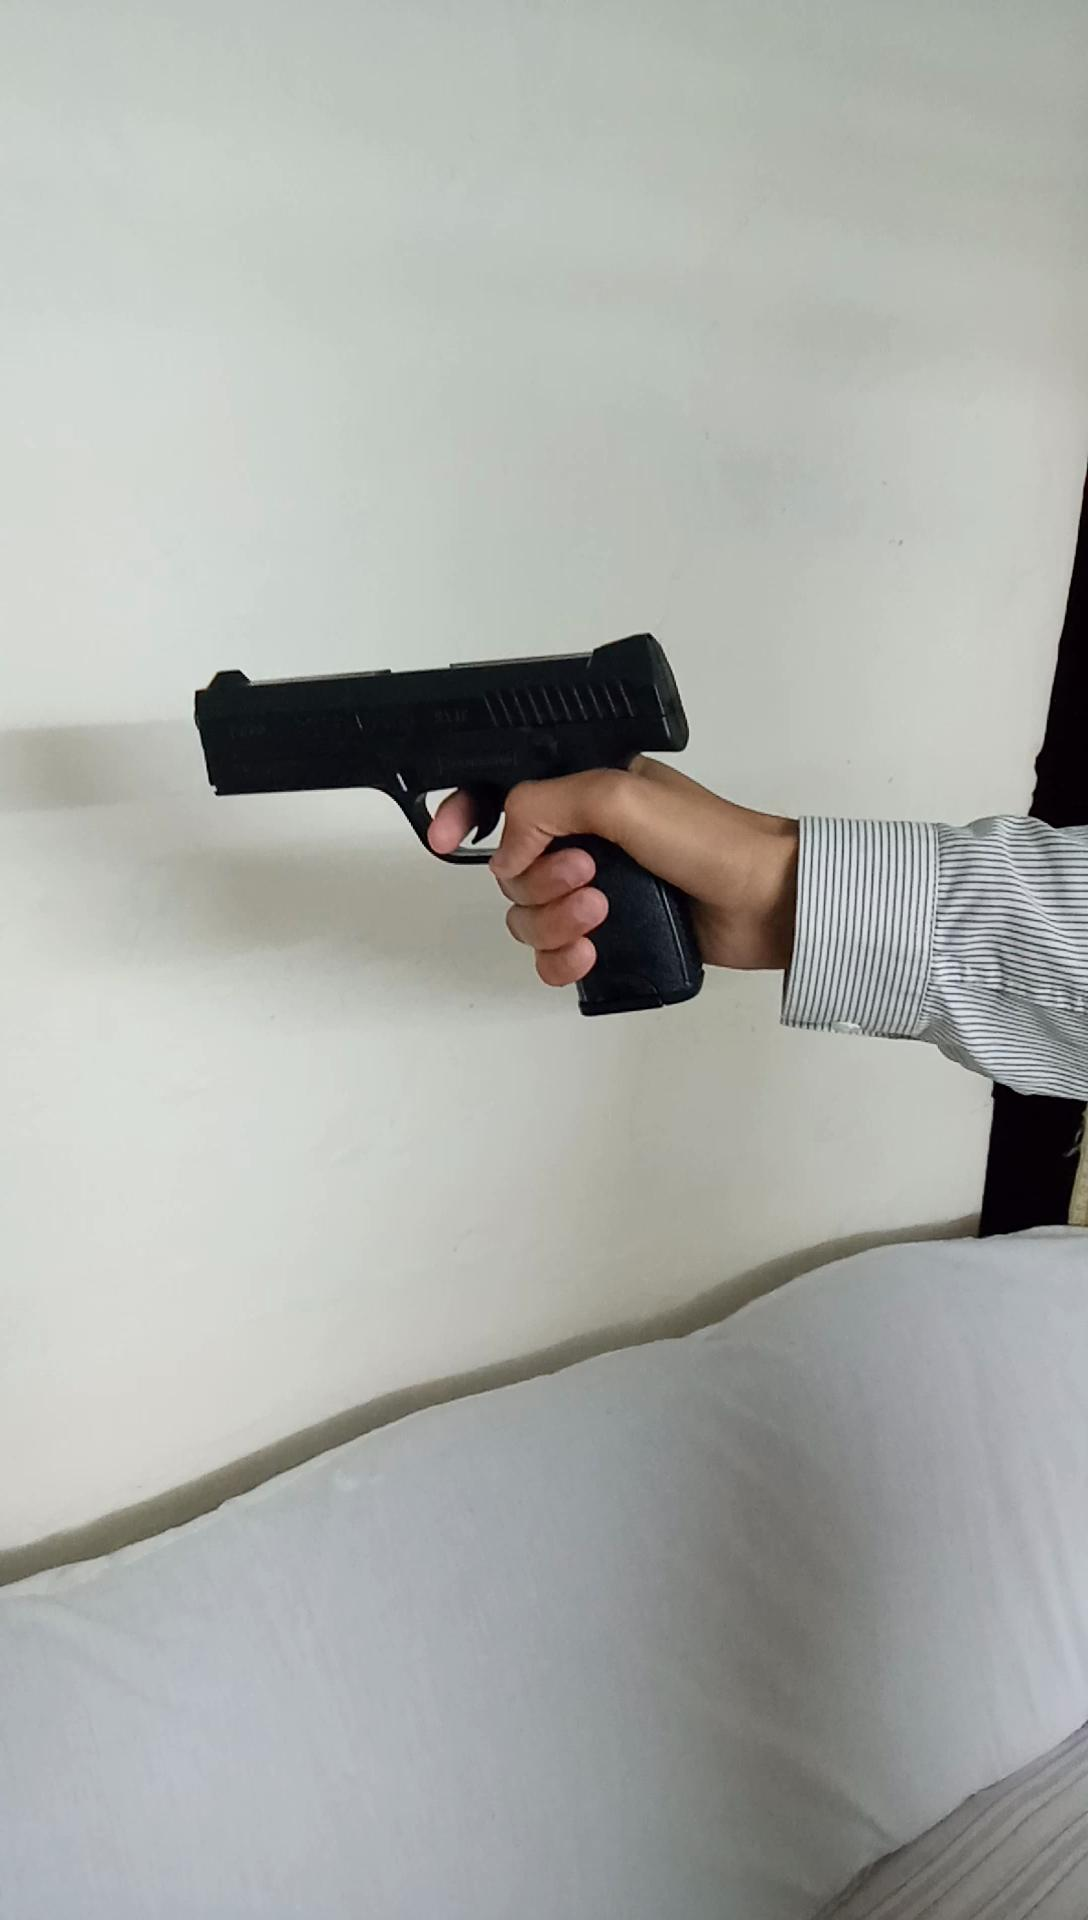weapon: (175, 616, 746, 1033)
